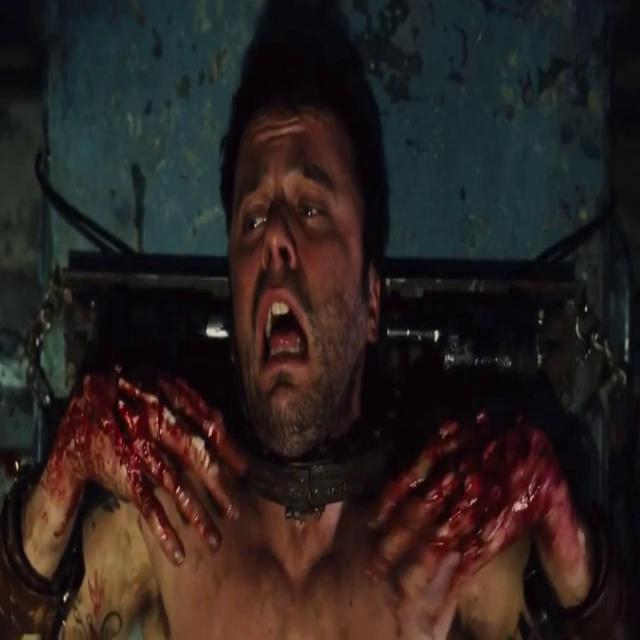flood: (362, 363, 590, 586), (34, 338, 241, 555)
